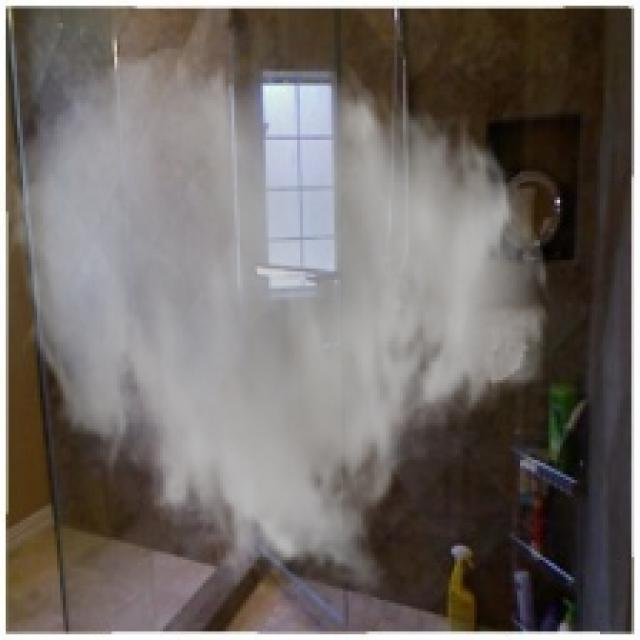smoke: (0, 43, 555, 601)
